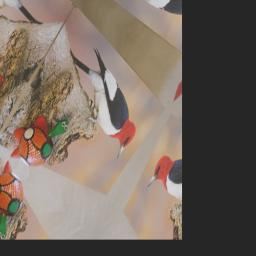Woodpecker: (46, 32, 155, 162)
